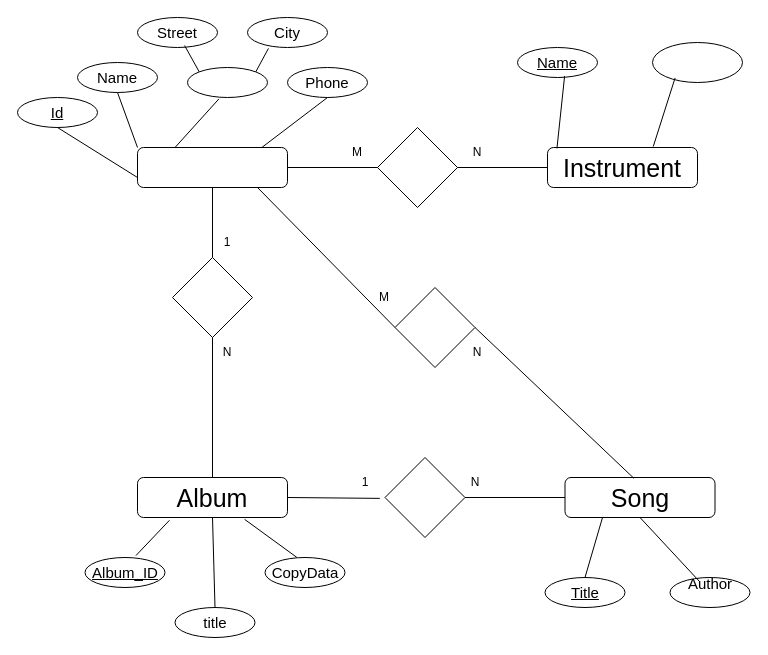
Some shapes in this 768 by 655 pixel diagram are drawn without their labels. Each missing label, with the box of its shape:
Adress: (186, 66, 268, 98)
has: (384, 456, 465, 538)
Musical_Key: (652, 42, 742, 82)
Musician: (136, 146, 288, 188)
Perfrom: (394, 286, 475, 368)
Play: (376, 126, 458, 208)
Produce: (172, 256, 252, 338)
